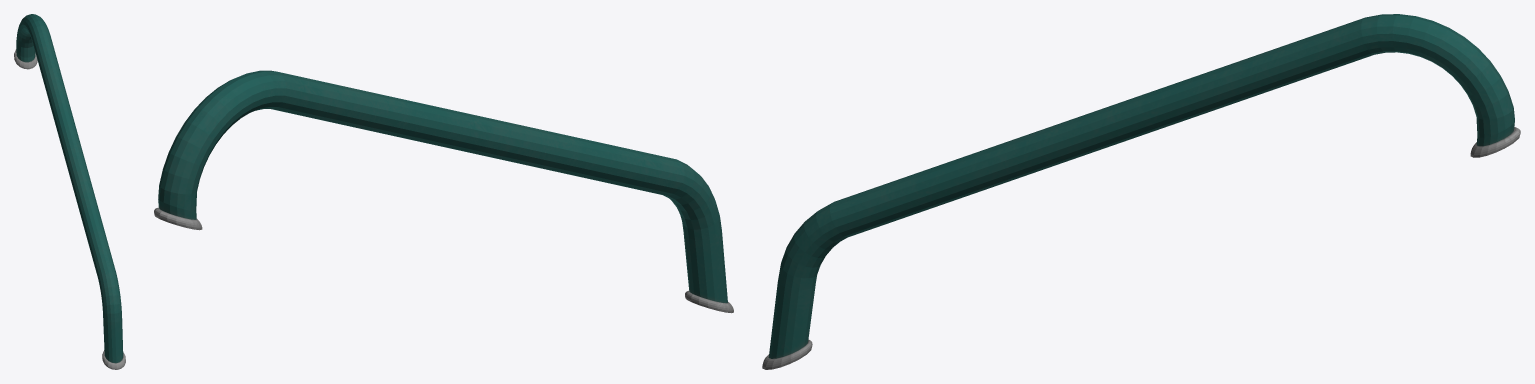
File: SM_074_Guardrail_01_4.fbx
The picture shows the model from 3 angles, left to right: view 1: azimuth 30°, elevation 25°; view 2: azimuth 150°, elevation 25°; view 3: azimuth 270°, elevation 25°; orthographic projection. The views are drawn at different scales.
Visible parts, largest first — view 1: SM_074_Guardrail_01_4; view 2: SM_074_Guardrail_01_4; view 3: SM_074_Guardrail_01_4.
Boxes of the visible parts, left/top/right/bottom form: SM_074_Guardrail_01_4: left=14, top=14, right=125, bottom=369; SM_074_Guardrail_01_4: left=154, top=70, right=733, bottom=313; SM_074_Guardrail_01_4: left=762, top=14, right=1520, bottom=369.
Bounding box in the file's own units: 37.73 × 113 × 70.47.
1 material, 1 textured.
